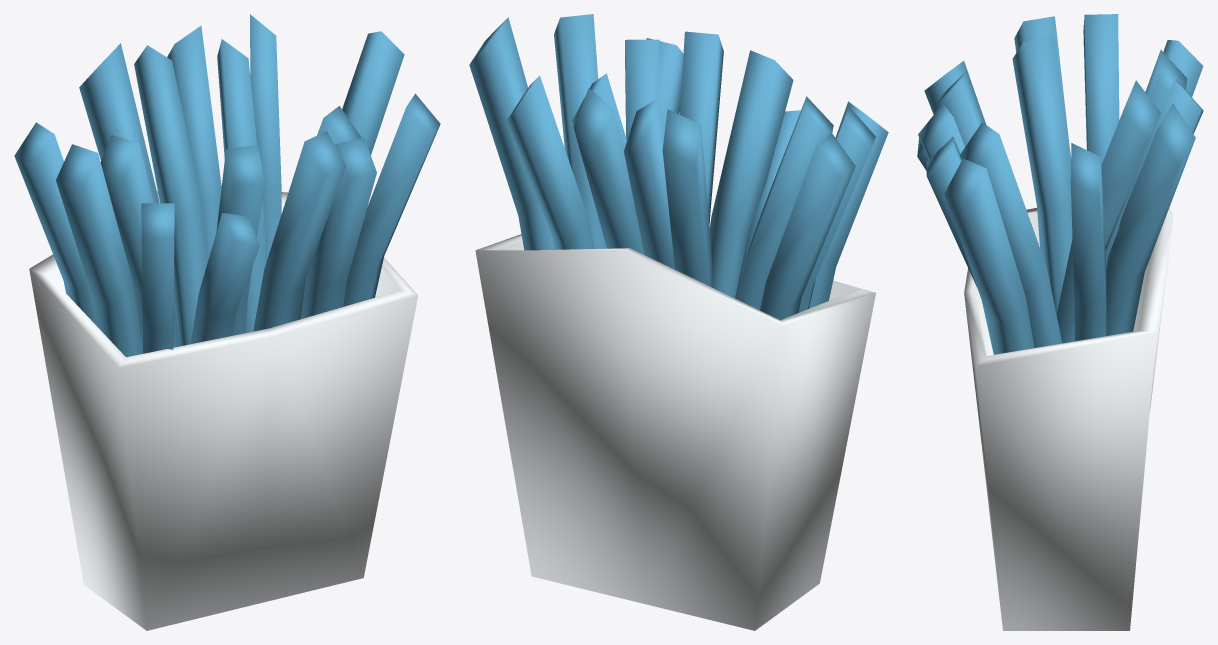
File: Chips.fbx
3 renders of one model, left to right at view 1: azimuth 30°, elevation 25°; view 2: azimuth 150°, elevation 25°; view 3: azimuth 270°, elevation 25°, orthographic. The views are drawn at different scales.
Parts seen in each view (by area): view 1: Chips; view 2: Chips; view 3: Chips.
Part boxes in pixels (left/top/right/bottom): Chips: left=14, top=14, right=440, bottom=630; Chips: left=469, top=14, right=888, bottom=630; Chips: left=917, top=14, right=1203, bottom=630.
Size of the model in its own units: 0.1873 by 0.2471 by 0.1249.
